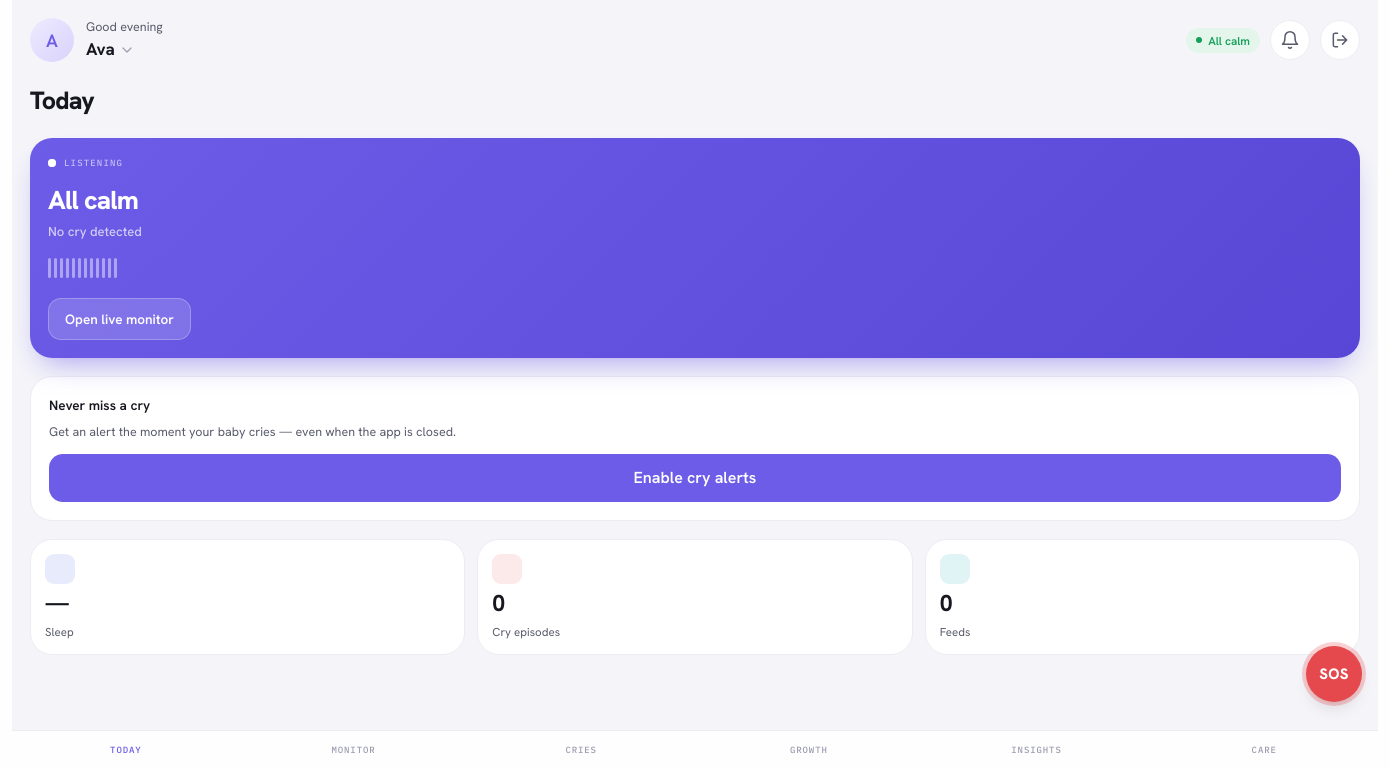
it: AppShell › switching baby via the header updates the active baby
The width and height of the screenshot is (1390, 768).
Expected: the text "Ava" is shown, [86,37,115,62]
Click the button with aria-label "switch baby": [124, 40] box [86,18,163,62]
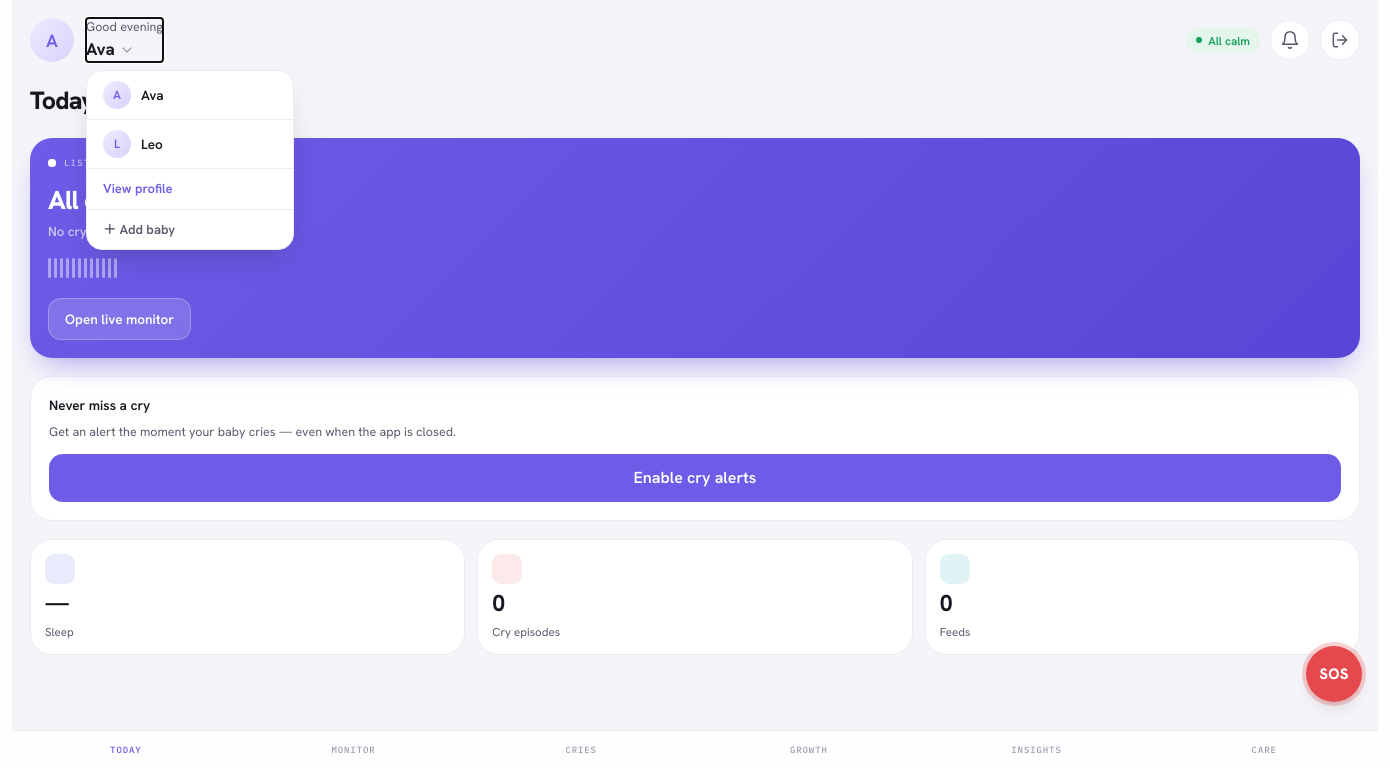
Click the button "L Leo": [190, 144] box [87,120,293,168]
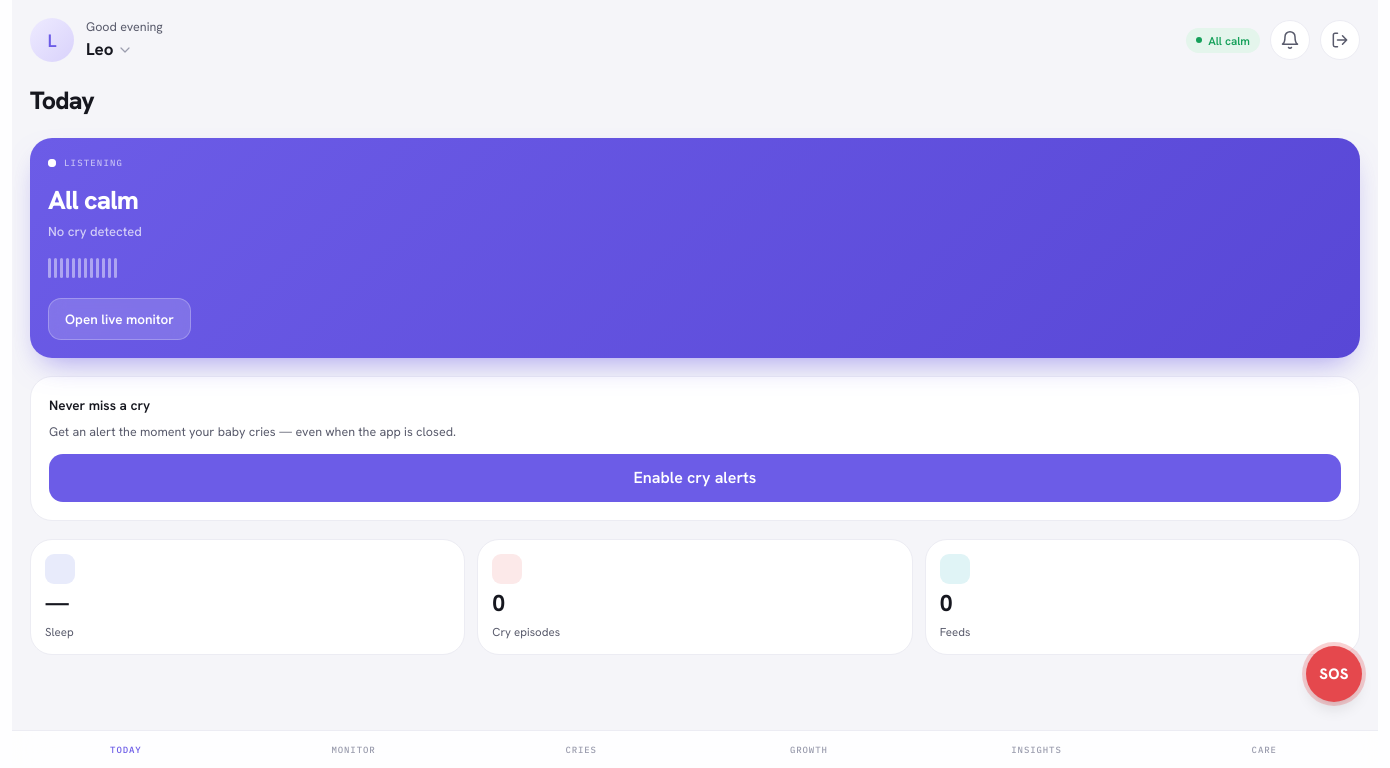
Now the button with aria-label "switch baby" shows "Leo", box [86,18,163,62]
